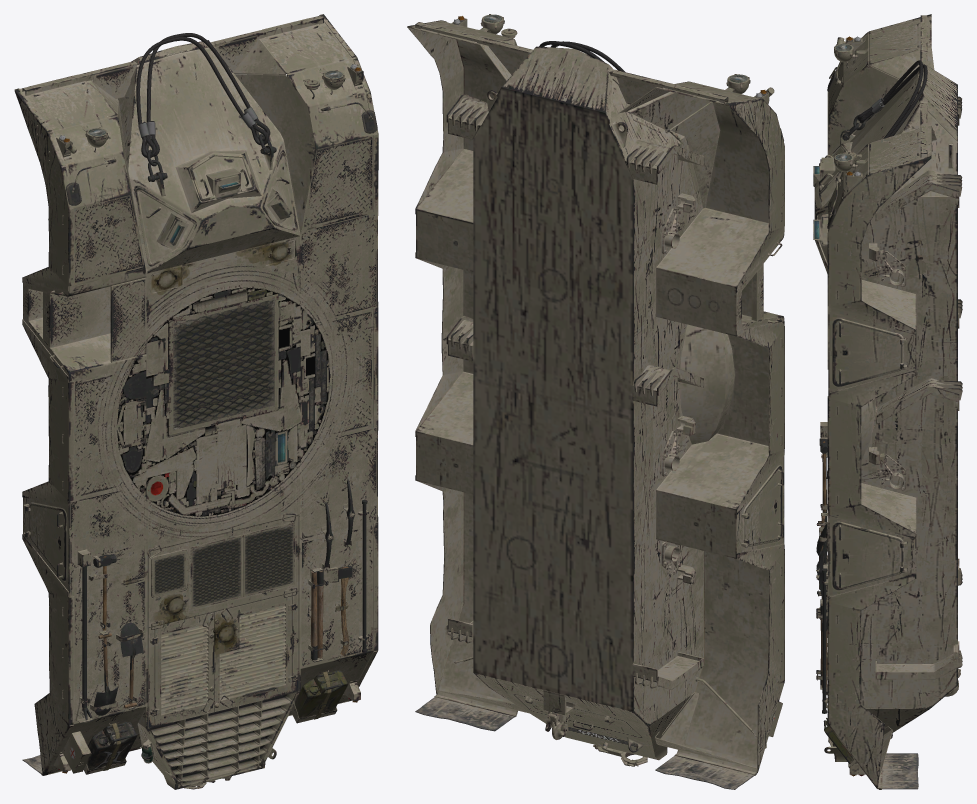
File: Hull.glb
The picture shows the model from 3 angles, left to right: view 1: azimuth 30°, elevation 25°; view 2: azimuth 150°, elevation 25°; view 3: azimuth 270°, elevation 25°; orthographic projection. The views are drawn at different scales.
Visible parts, largest first — view 1: set_0_group_0; view 2: set_0_group_0; view 3: set_0_group_0.
Part boxes in pixels (x1,y1,x2,y2): set_0_group_0: [14, 14, 378, 789]; set_0_group_0: [407, 14, 784, 789]; set_0_group_0: [813, 14, 962, 789].
Size of the model in its own units: 3.12 by 6.65 by 1.32.
Materials: 1 (1 with a texture image).
